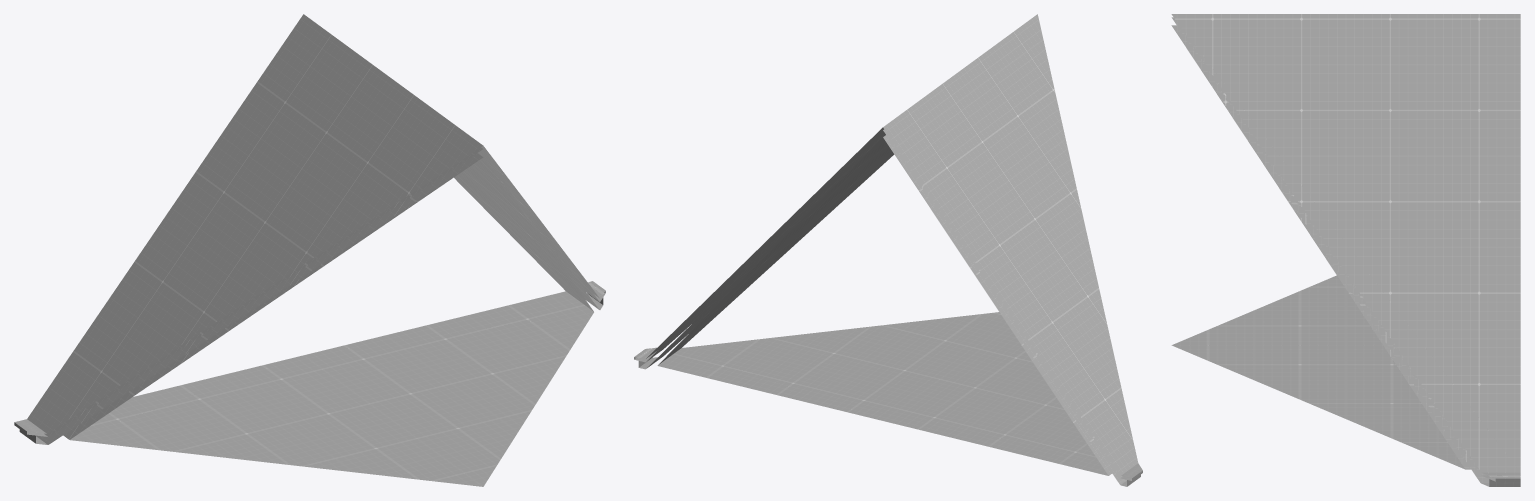
The model's file is HighRoof.003.fbx.
3 views of the same model, side by side, from view 1: azimuth 30°, elevation 25°; view 2: azimuth 150°, elevation 25°; view 3: azimuth 270°, elevation 25° (orthographic). The views are drawn at different scales.
Parts seen in each view (by area): view 1: HighRoof.003; view 2: HighRoof.003; view 3: HighRoof.003.
Part boxes in pixels (x1,y1,x2,y2): HighRoof.003: (14,14,605,486); HighRoof.003: (634,14,1142,486); HighRoof.003: (1171,14,1520,486).
Size of the model in its own units: 706 by 406 by 380.
